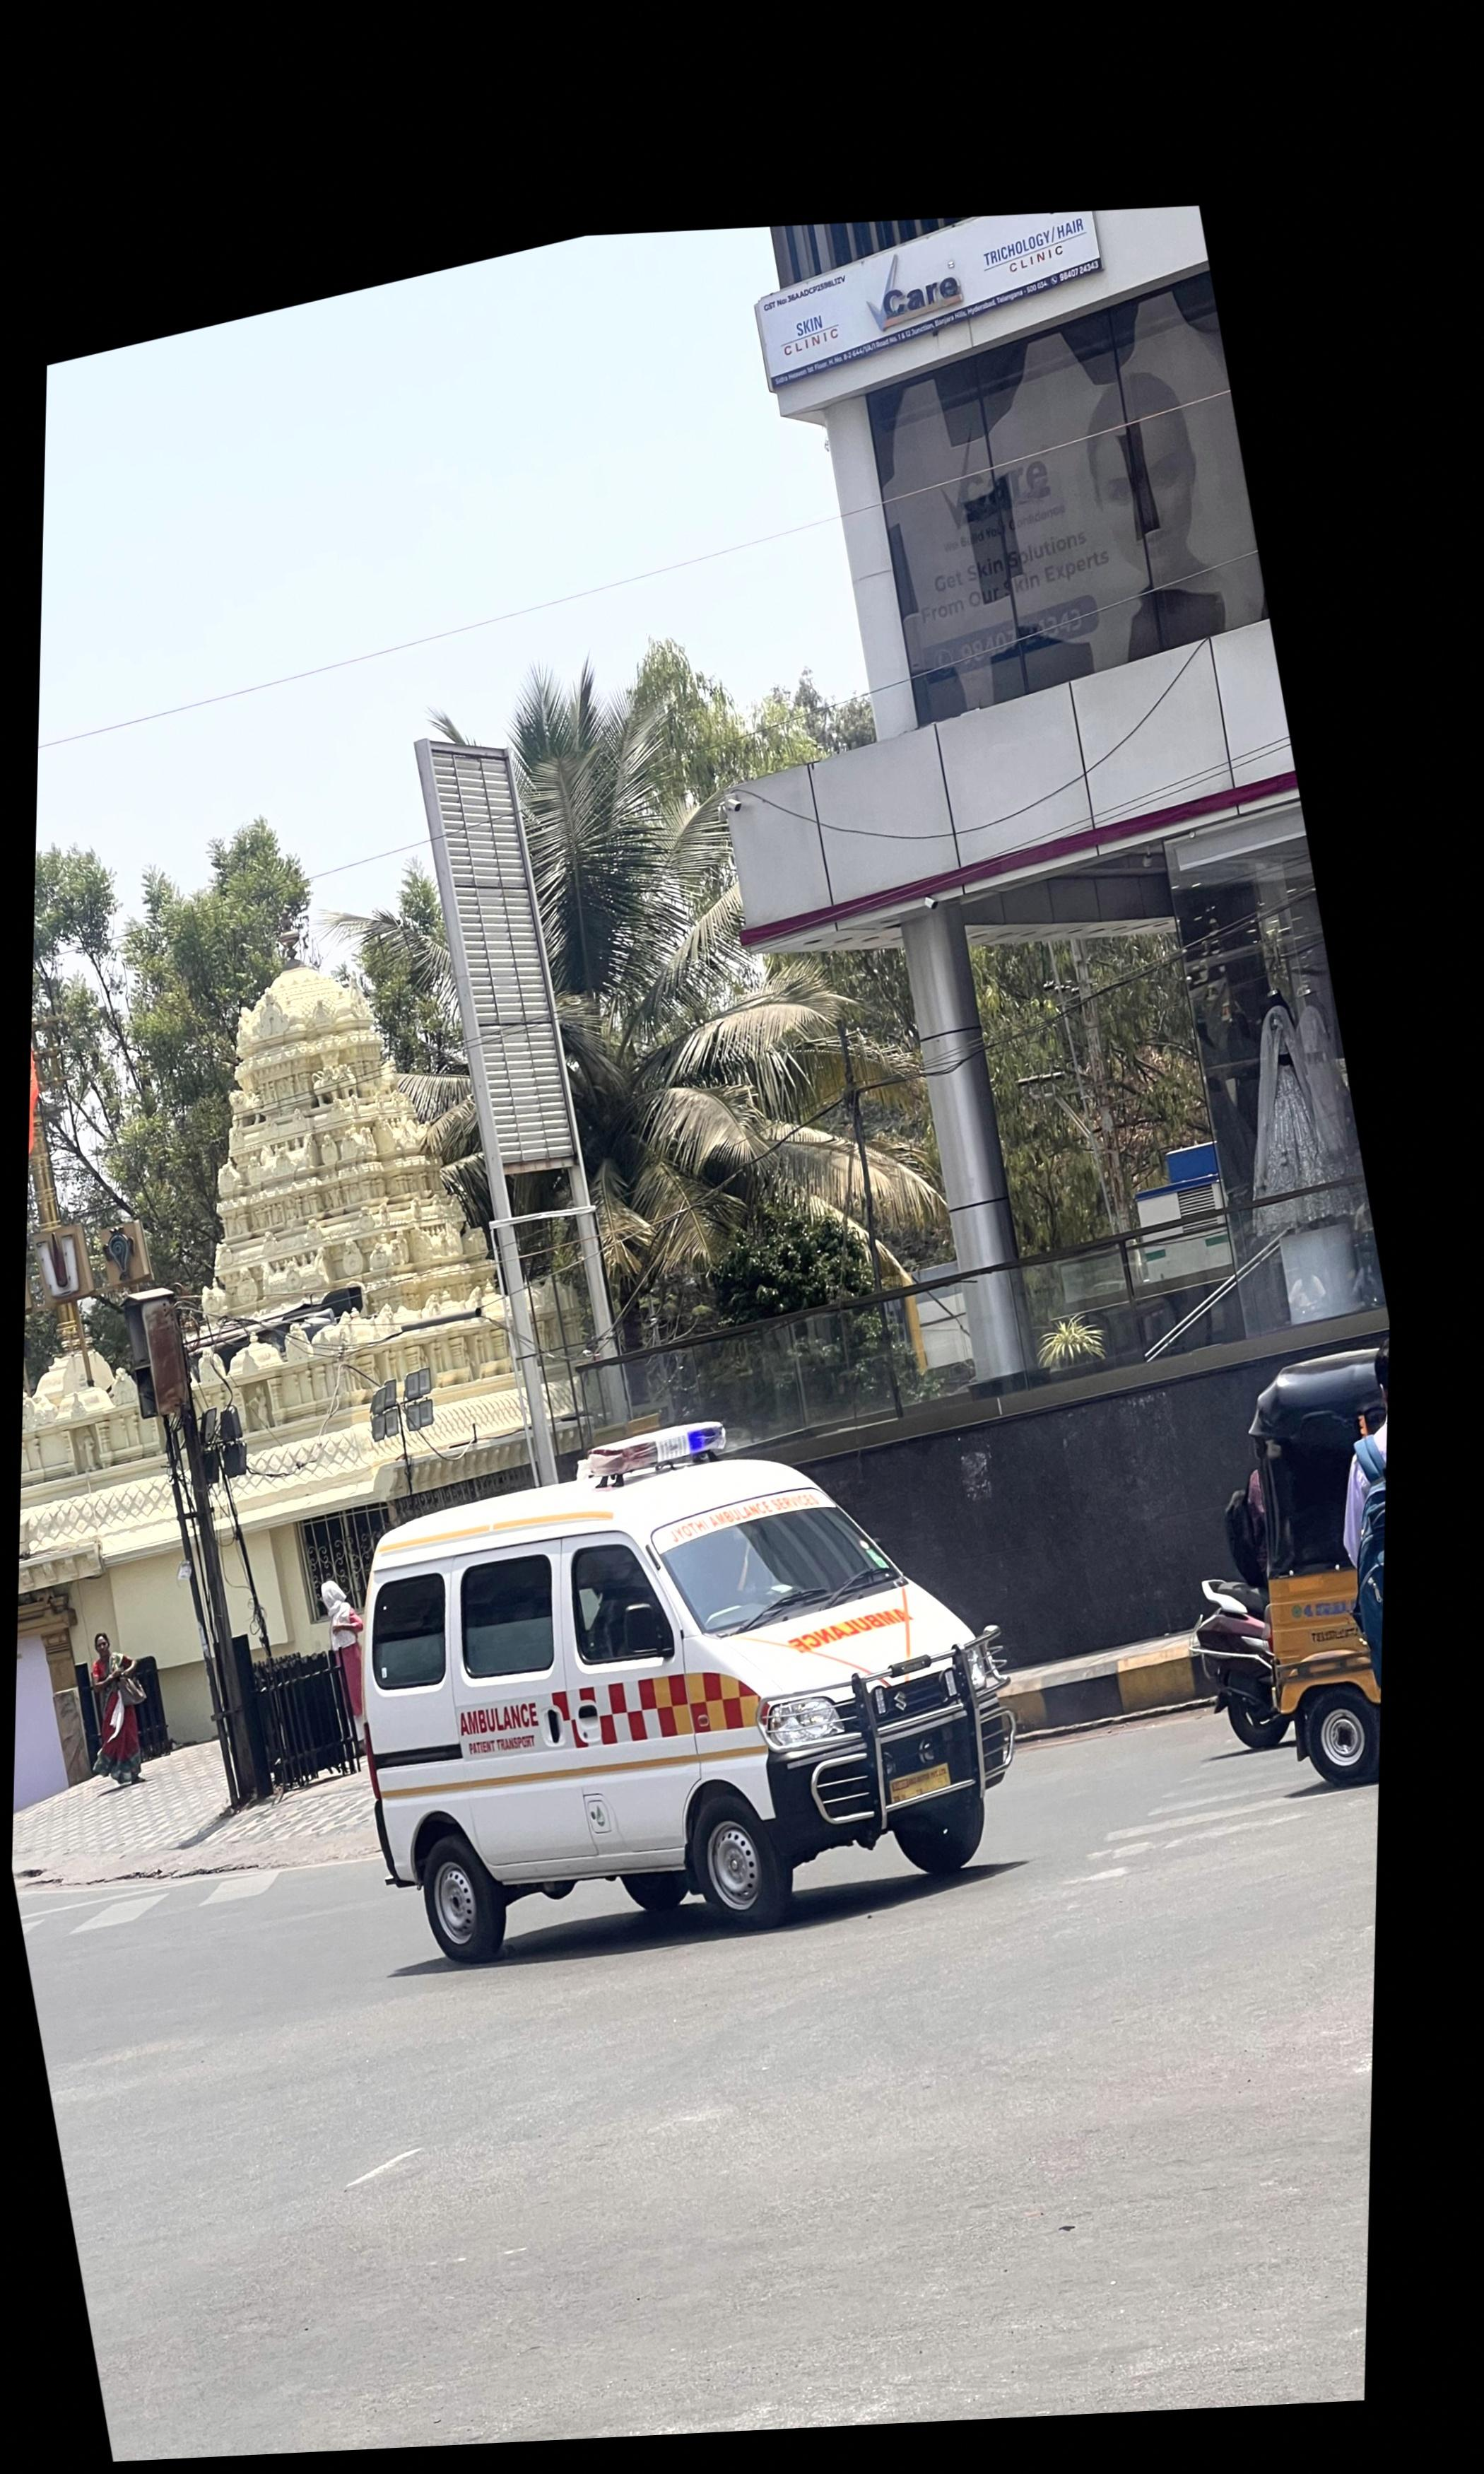ambulance: (357, 1468, 1011, 1967)
